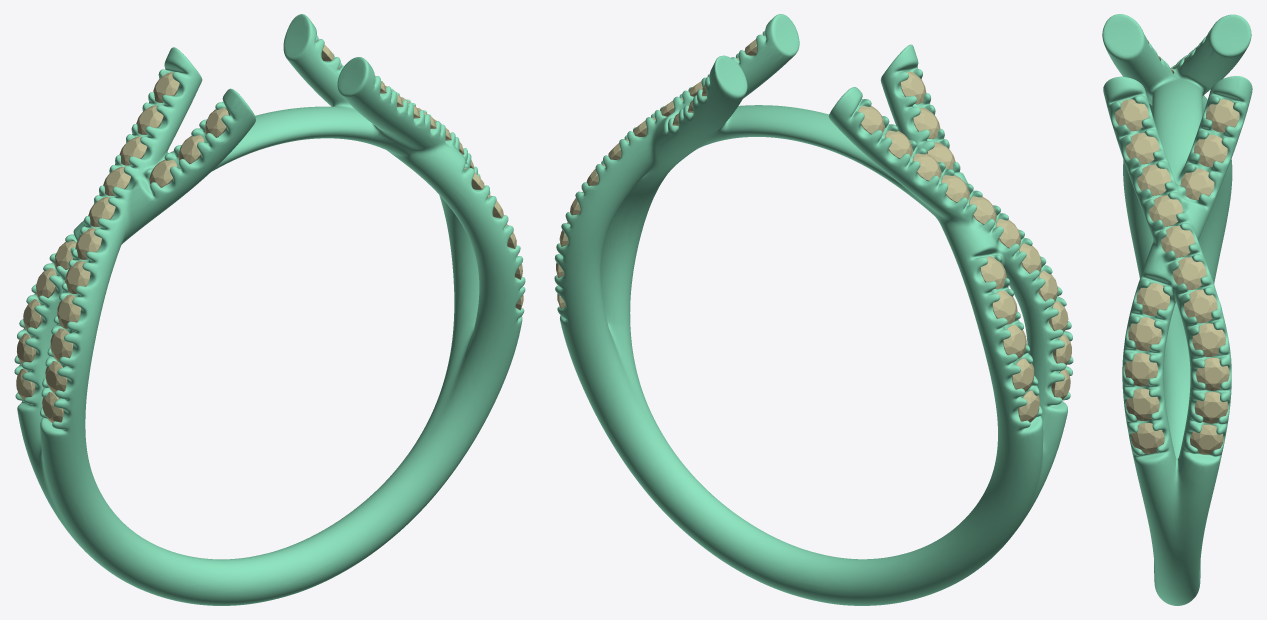
3 views of the same model, side by side, from view 1: azimuth 30°, elevation 25°; view 2: azimuth 150°, elevation 25°; view 3: azimuth 270°, elevation 25° (orthographic).
Parts seen in each view (by area): view 1: Metal02; view 2: Metal02; view 3: Metal02, Diamond_Gem.003, Diamond_Gem.002, Diamond_Gem.011, Diamond_Gem.012, Diamond_Gem.016, Diamond_Gem.004, Diamond_Gem.010, Diamond_Gem.013, Diamond_Gem.001, Diamond_Gem.017, Diamond_Gem.005 (+8 smaller).
Part boxes in pixels (x1,y1,x2,y2): Metal02: (14, 14, 525, 605); Metal02: (554, 14, 1073, 605); Metal02: (1102, 14, 1252, 605); Diamond_Gem.003: (1128, 317, 1161, 350); Diamond_Gem.002: (1124, 353, 1157, 386); Diamond_Gem.011: (1184, 289, 1217, 323); Diamond_Gem.012: (1192, 323, 1225, 356); Diamond_Gem.016: (1206, 99, 1239, 132); Diamond_Gem.004: (1136, 283, 1169, 315); Diamond_Gem.010: (1173, 257, 1206, 289); Diamond_Gem.013: (1196, 357, 1229, 390); Diamond_Gem.001: (1126, 388, 1159, 420); Diamond_Gem.017: (1194, 134, 1227, 167); Diamond_Gem.005: (1115, 99, 1148, 131).
Bounding box in the file's own units: 20.93 × 22.79 × 5.78.
